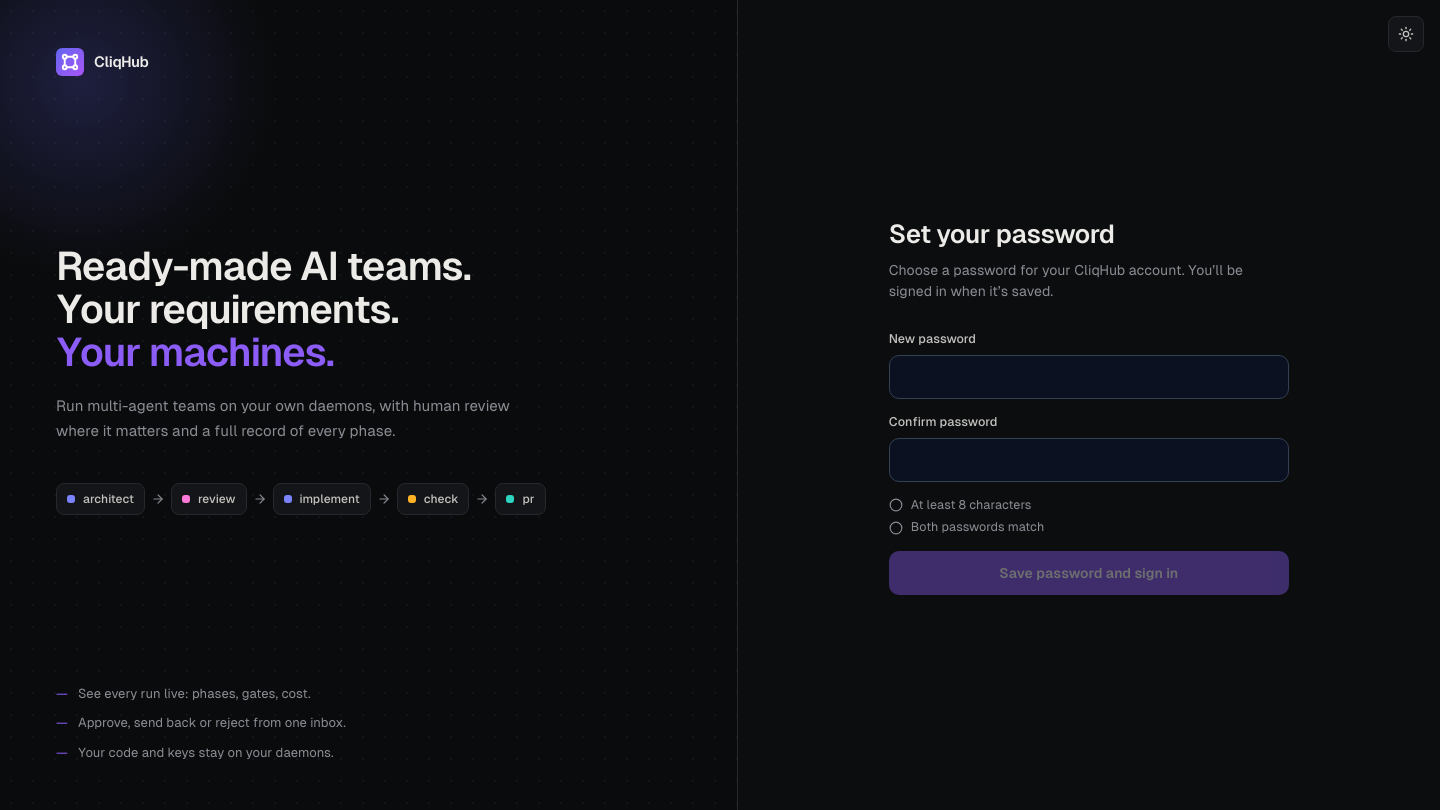
Test: Set your password (/reset/:token) › 404 not_found → “This link isn’t valid” with a way to get a new link
In the password field labelled "New password": (1089, 377) top-left (889, 355), bottom-right (1289, 399), type "longpassword"
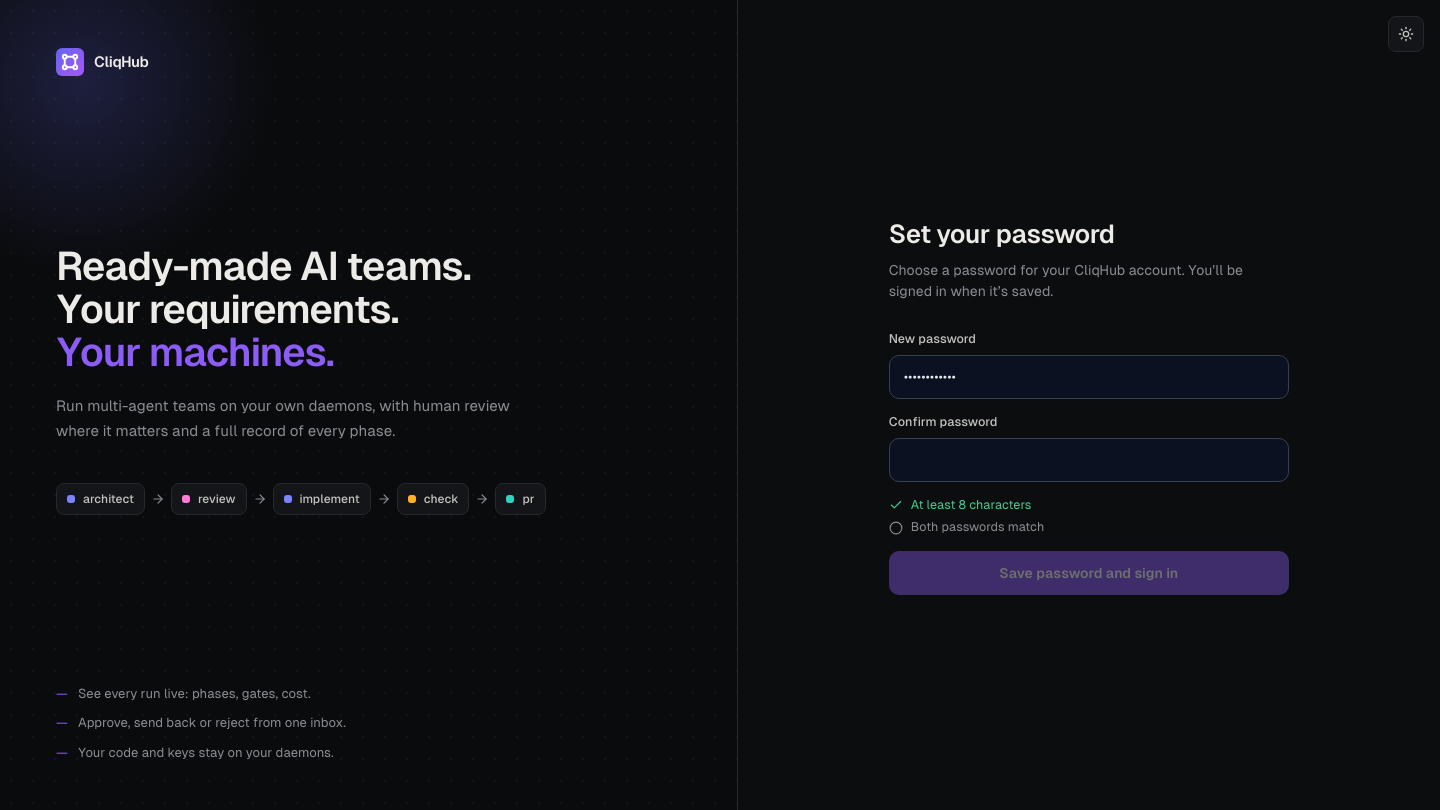
In the password field labelled "Confirm password": (1089, 460) top-left (889, 438), bottom-right (1289, 482), type "longpassword"
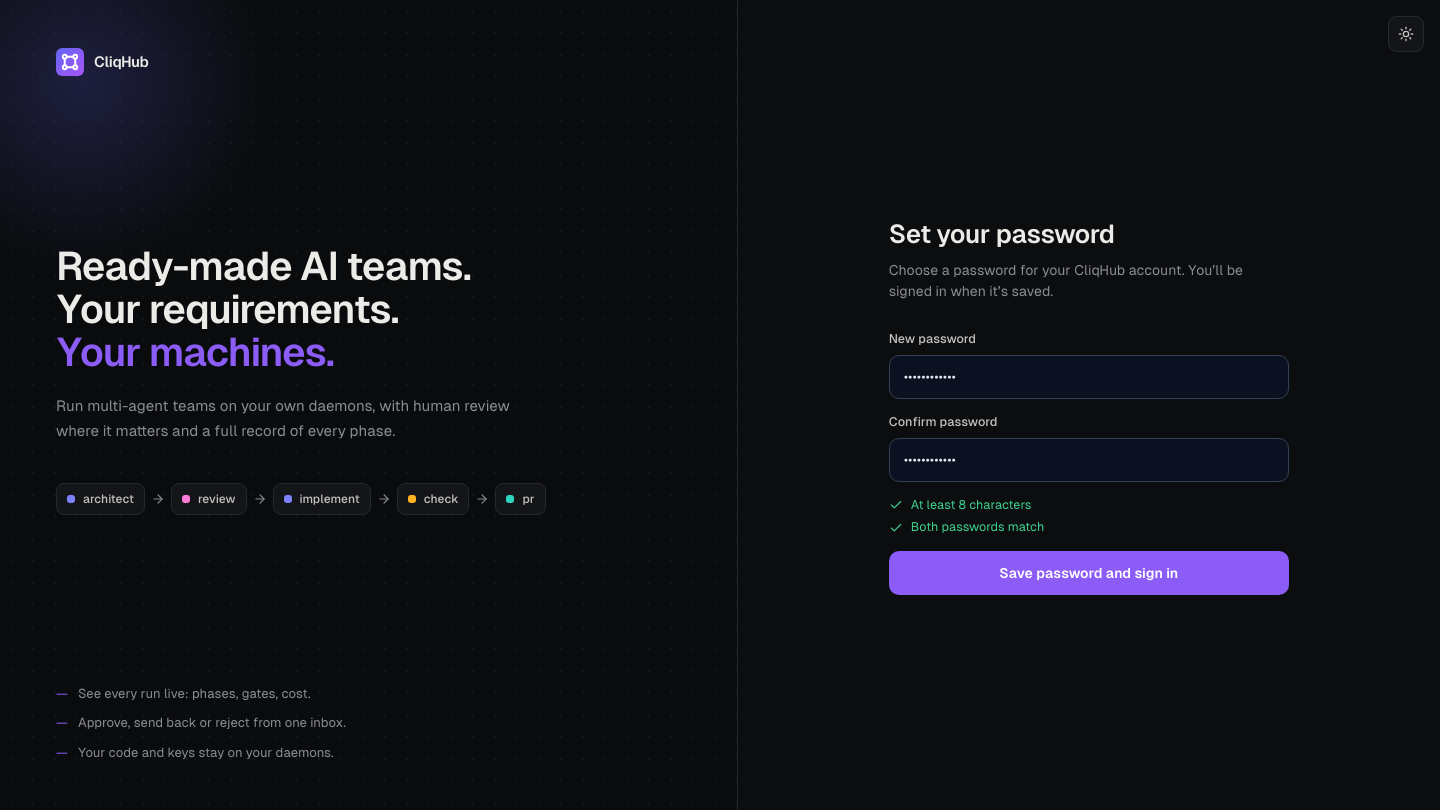
Click the button "Save password and sign in": (1089, 573) top-left (889, 551), bottom-right (1289, 595)
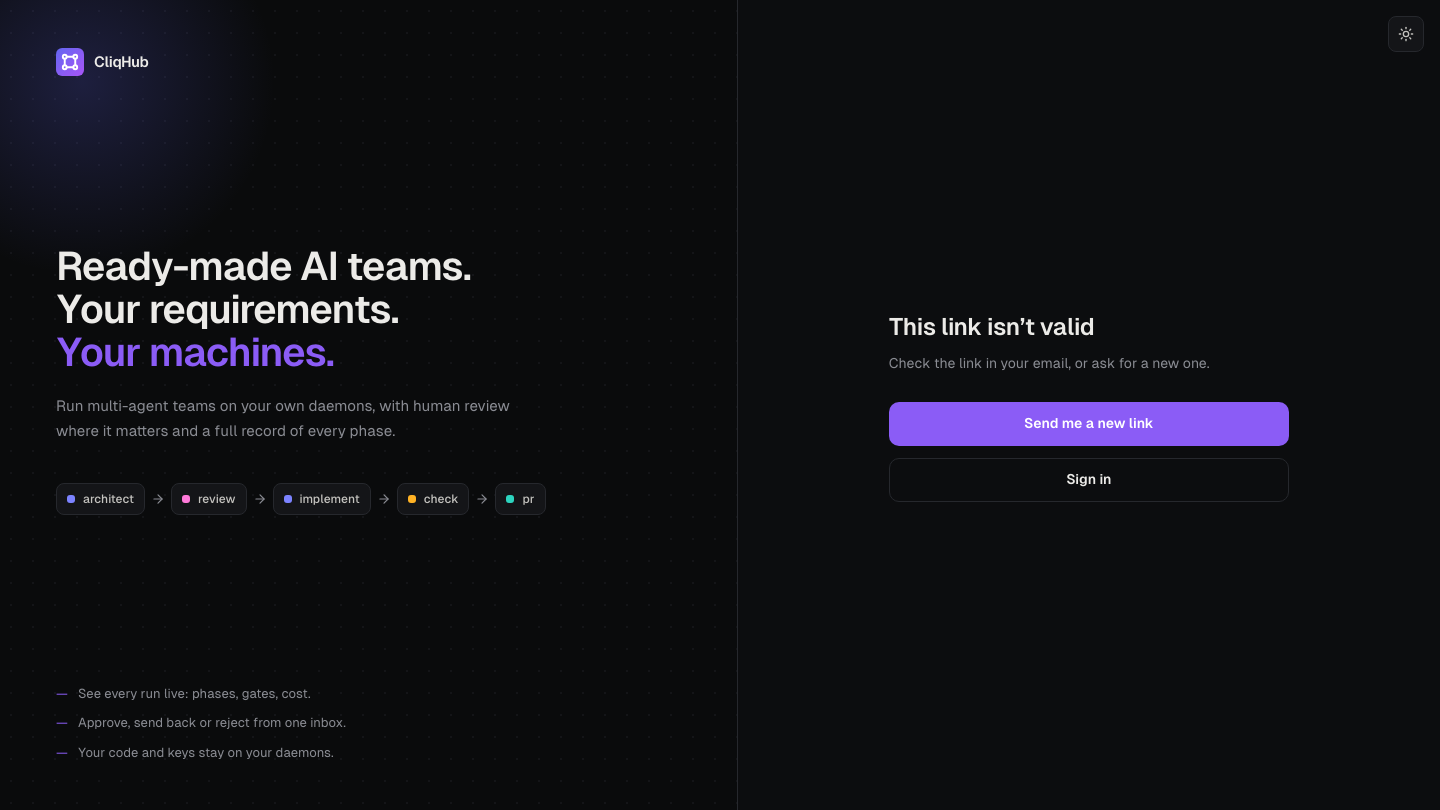
Check: the heading "This link isn’t valid" is shown, box top-left (889, 312), bottom-right (1094, 340)
